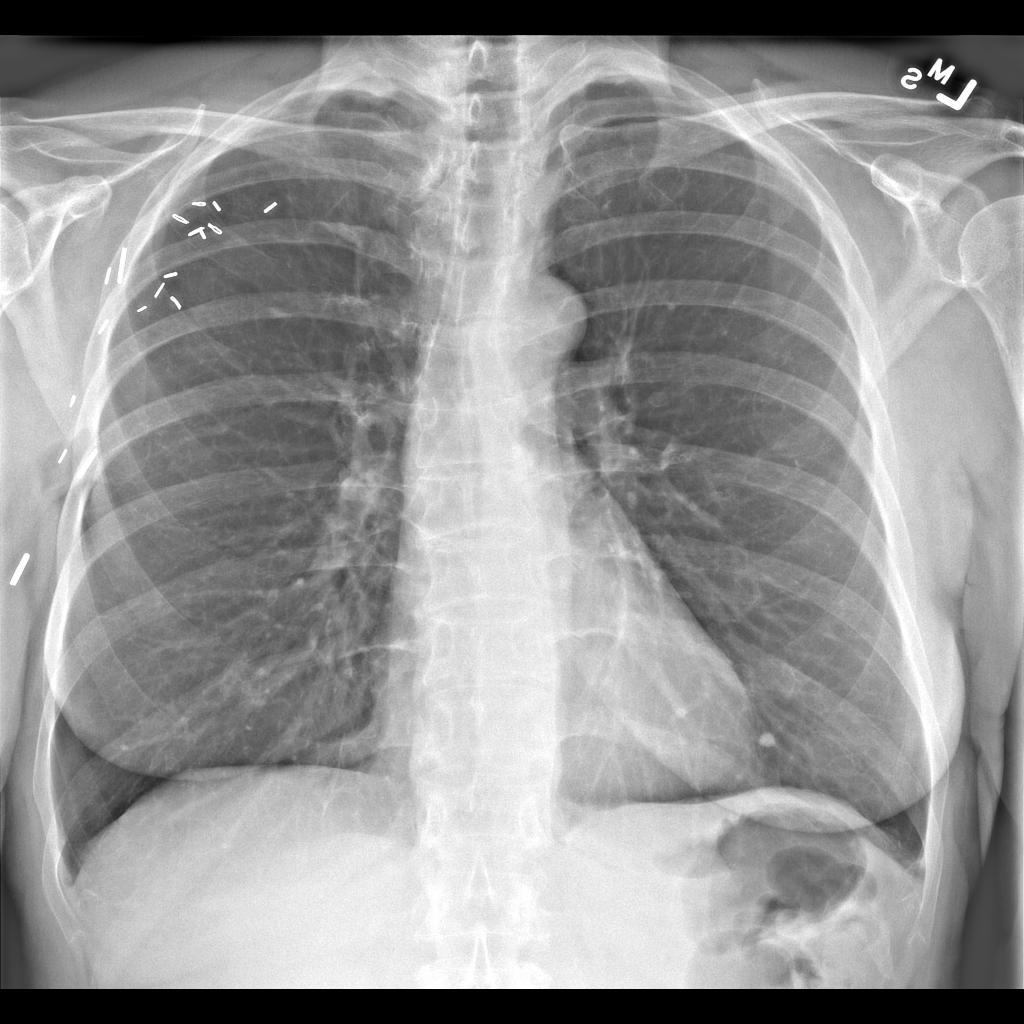Nodule: (758, 727, 785, 755)
